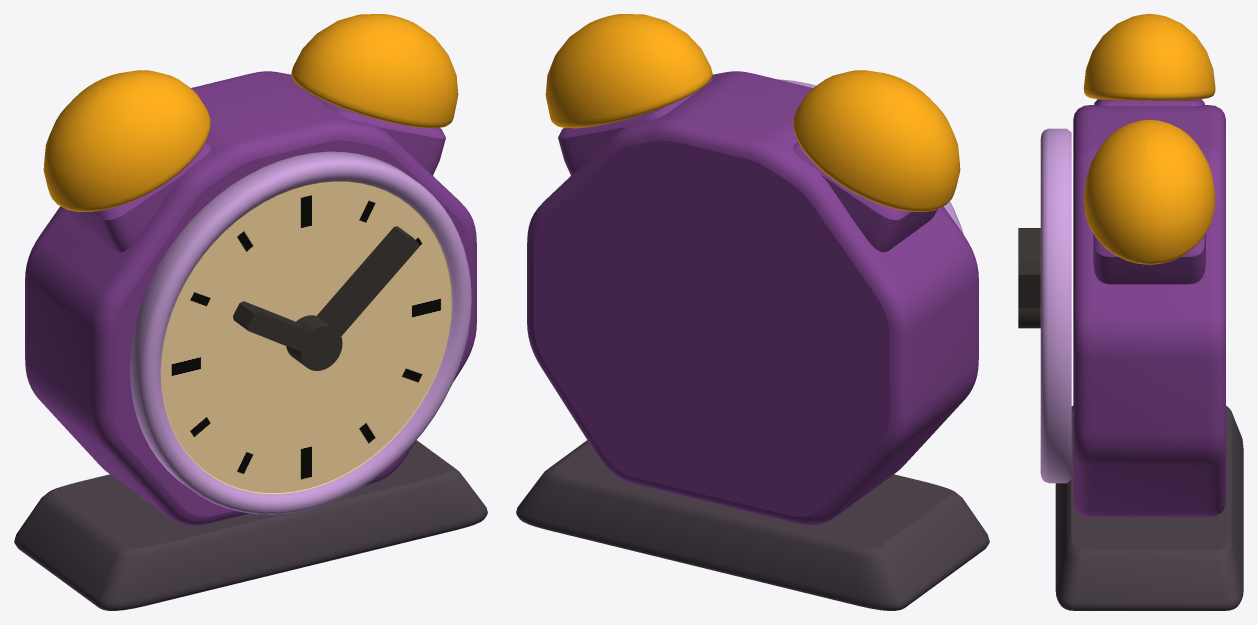
3 views of the same model, side by side, from view 1: azimuth 30°, elevation 25°; view 2: azimuth 150°, elevation 25°; view 3: azimuth 270°, elevation 25° (orthographic). The views are drawn at different scales.
Parts seen in each view (by area): view 1: Part_002_Dial.003, Part_001_OctagonCase.002, Part_000_FlaredStand.001, Part_003_LeftBell.003, Part_004_RightBell.003, Part_005_JoinedHands.002; view 2: Part_001_OctagonCase.002, Part_000_FlaredStand.001, Part_003_LeftBell.003, Part_004_RightBell.003; view 3: Part_001_OctagonCase.002, Part_000_FlaredStand.001, Part_004_RightBell.003, Part_002_Dial.003, Part_003_LeftBell.003, Part_005_JoinedHands.002.
Boxes of the visible parts, x1=… form: Part_002_Dial.003: x1=130, y1=151, x2=471, y2=514; Part_001_OctagonCase.002: x1=25, y1=71, x2=476, y2=525; Part_000_FlaredStand.001: x1=14, y1=440, x2=487, y2=610; Part_003_LeftBell.003: x1=43, y1=70, x2=210, y2=211; Part_004_RightBell.003: x1=291, y1=14, x2=458, y2=128; Part_005_JoinedHands.002: x1=233, y1=226, x2=418, y2=370; Part_001_OctagonCase.002: x1=527, y1=71, x2=978, y2=525; Part_000_FlaredStand.001: x1=516, y1=440, x2=989, y2=610; Part_003_LeftBell.003: x1=793, y1=70, x2=960, y2=211; Part_004_RightBell.003: x1=545, y1=14, x2=712, y2=128; Part_001_OctagonCase.002: x1=1073, y1=99, x2=1225, y2=517; Part_000_FlaredStand.001: x1=1055, y1=405, x2=1243, y2=610; Part_004_RightBell.003: x1=1083, y1=119, x2=1215, y2=264; Part_002_Dial.003: x1=1040, y1=128, x2=1071, y2=483; Part_003_LeftBell.003: x1=1083, y1=14, x2=1215, y2=100; Part_005_JoinedHands.002: x1=1018, y1=228, x2=1040, y2=328.
Bounding box in the file's own units: 9.93 × 11.54 × 5.22.
6 materials, 1 textured.
